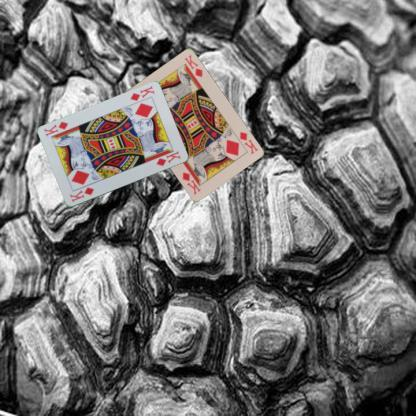Kd: (237, 129, 259, 155), (67, 185, 95, 204), (128, 84, 155, 102)
